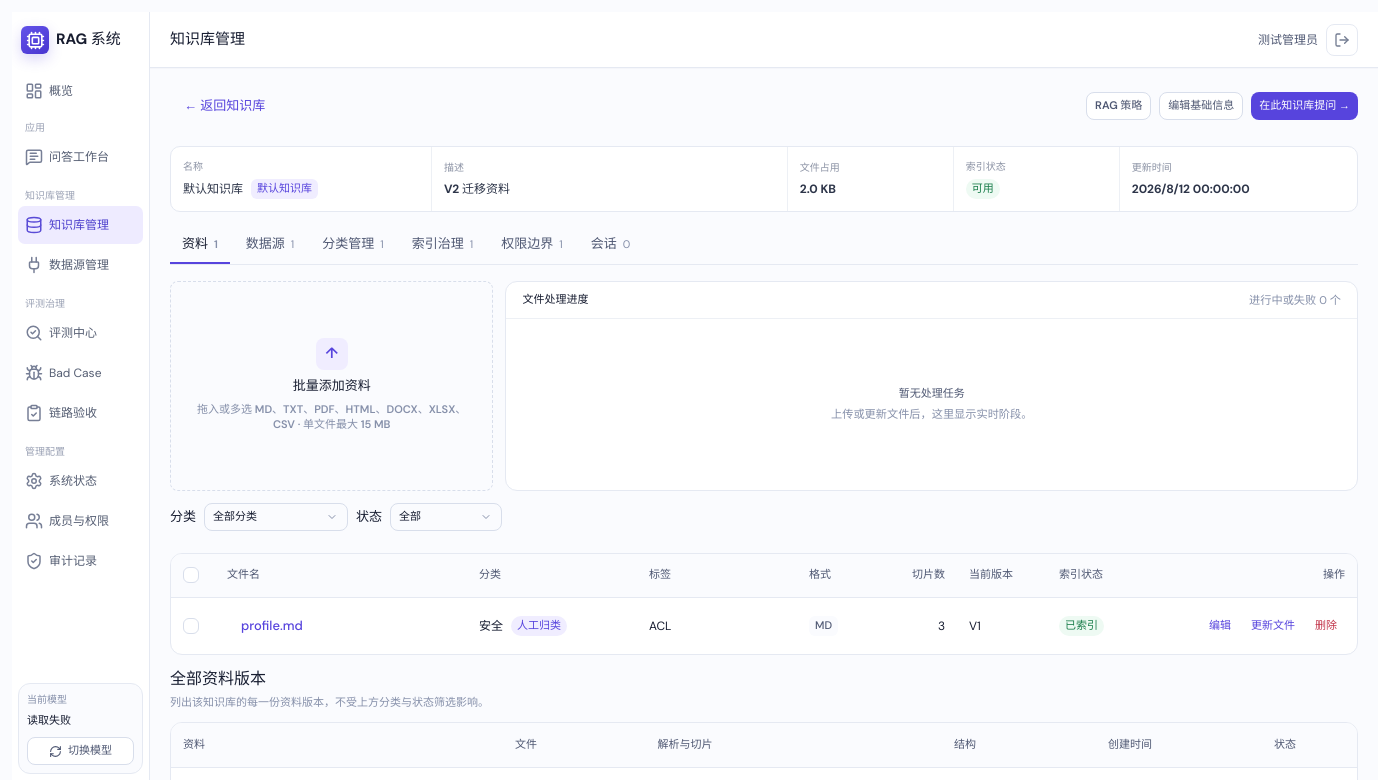
知识库详情提供数据源同步治理 Tab
The image size is (1378, 780).
Click the tab "数据源1": (270,245) x1=234 y1=226 x2=306 y2=264
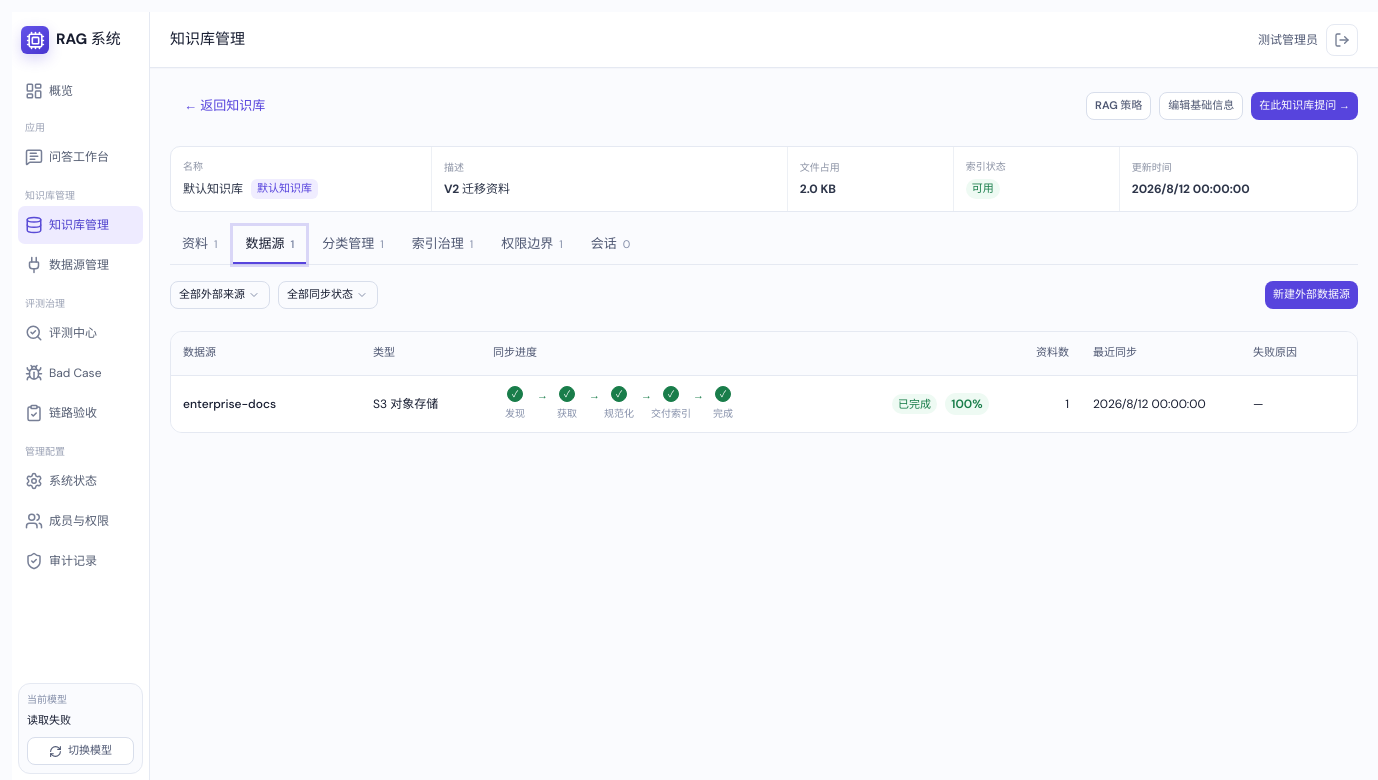
Result: the button "新建外部数据源" is shown at x1=1265 y1=280 x2=1358 y2=308
Result: the column heading "同步进度" is shown at x1=481 y1=332 x2=1001 y2=376
Result: the text "enterprise-docs" is shown at x1=183 y1=395 x2=276 y2=413
